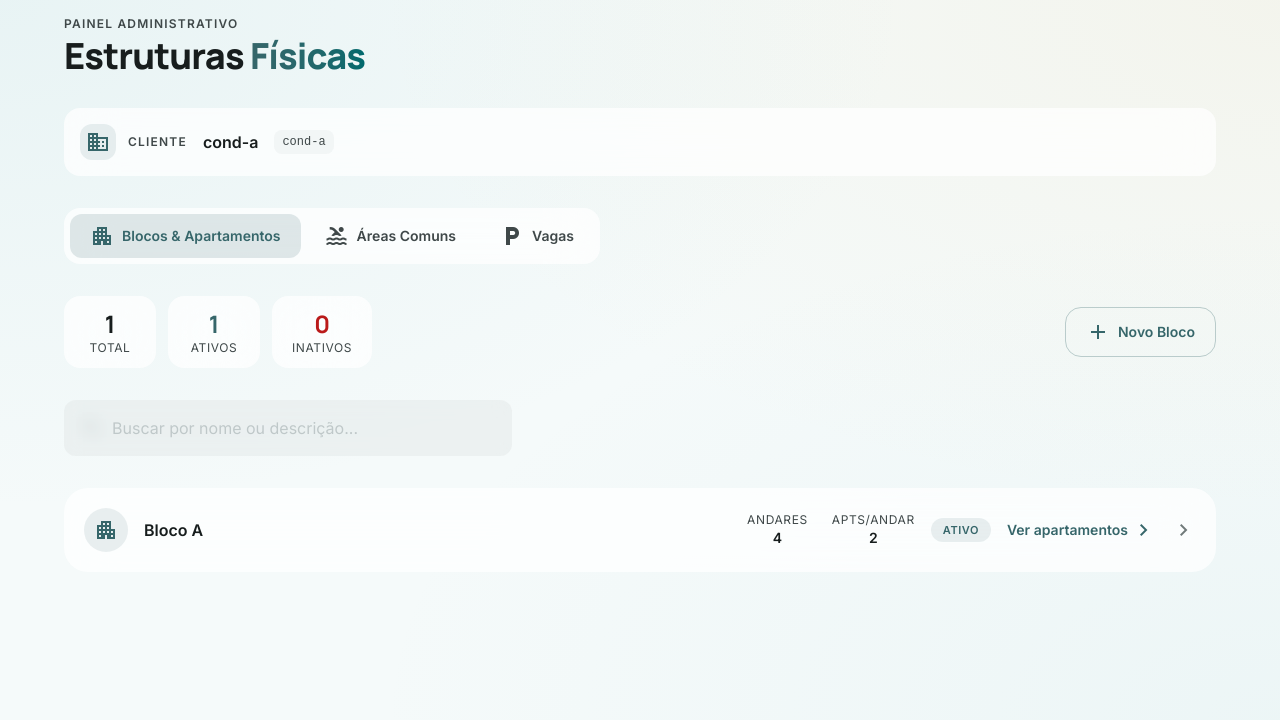
Test case: GerenciarEstruturas — áreas comuns › alterna para a aba e lista as áreas
Check: the button "Blocos & Apartamentos" is shown, box [70,214,301,258]
Click the button "Áreas Comuns": x=390, y=236 [305,214,476,258]
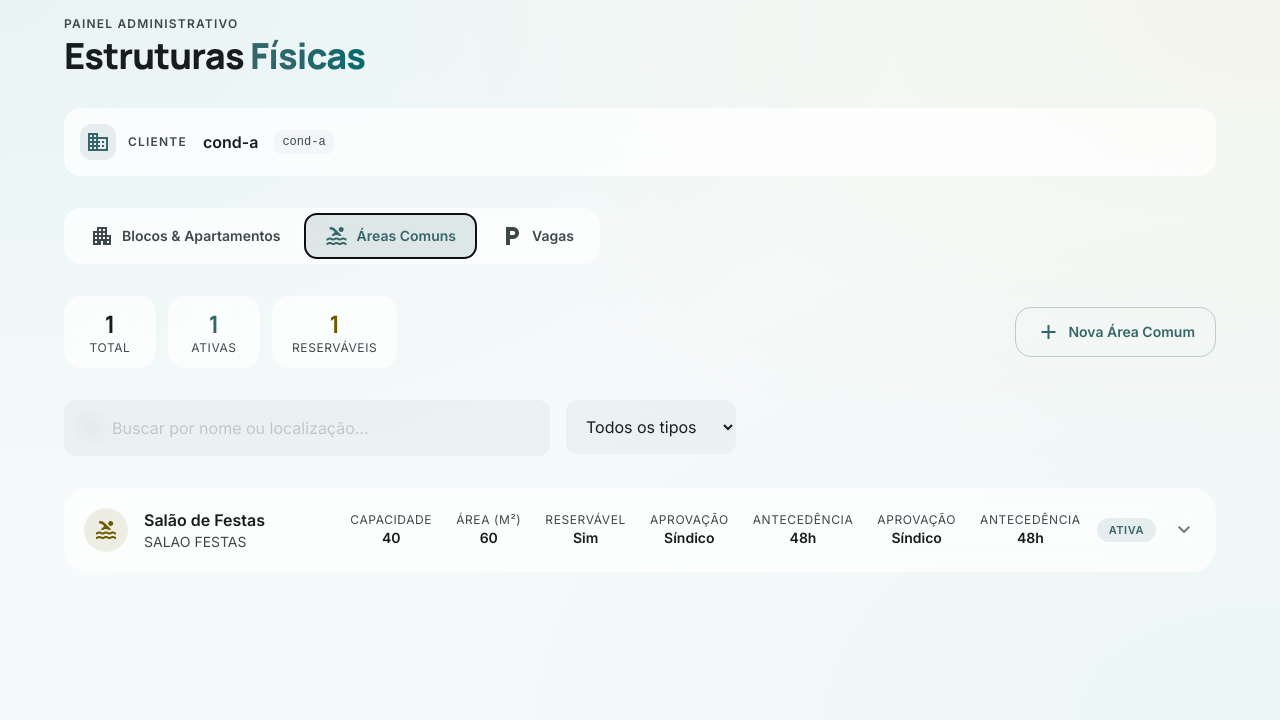
Check: the text "Salão de Festas" is shown, box [144,510,265,530]
